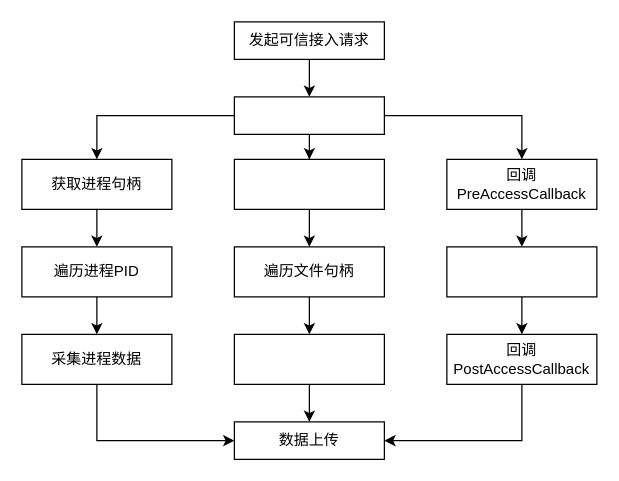
This 619x481 diagram has some shape labels left out. Each missing label, with the box of its shape:
启动数据采集阶段: (233, 96, 384, 134)
接入判定: (446, 246, 597, 297)
获取文件句柄: (233, 158, 384, 209)
采集文件数据: (233, 333, 384, 384)
